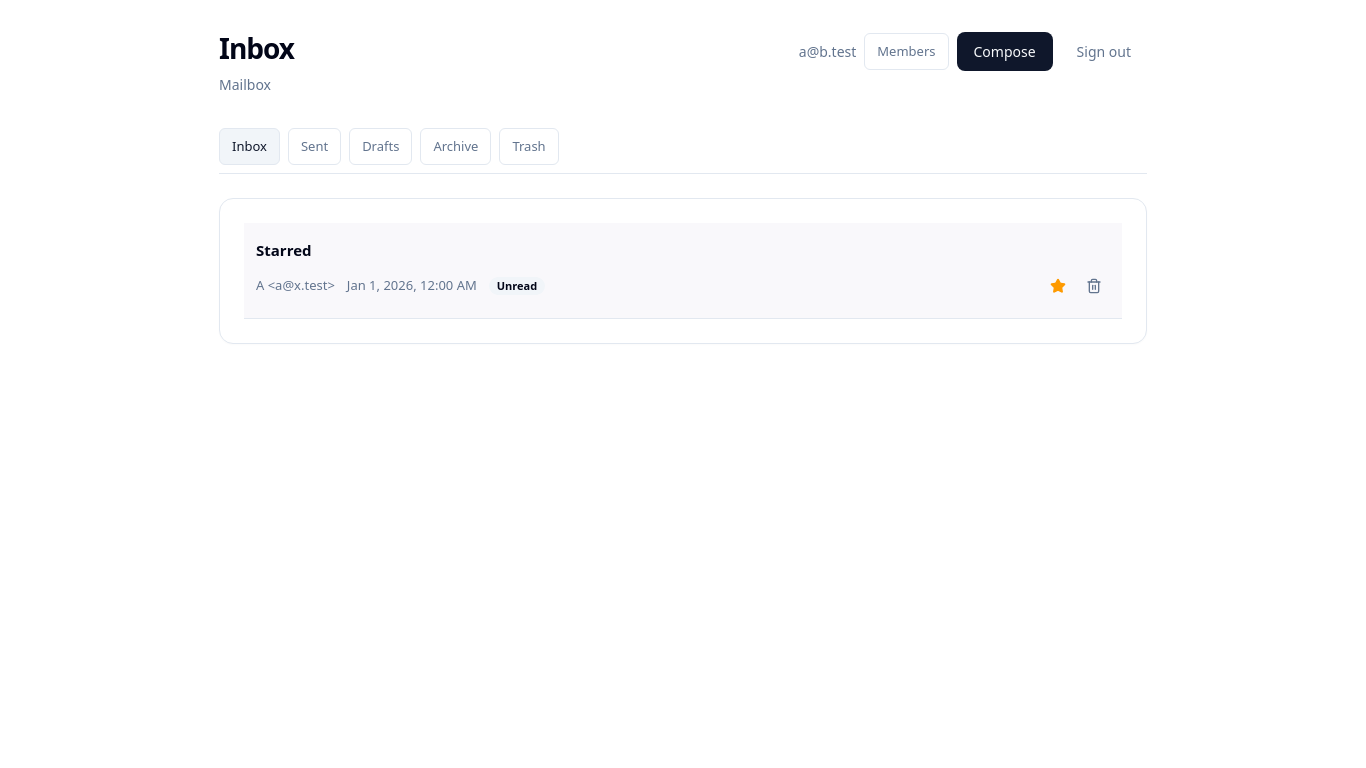
Scenario: InboxListPage — row actions (CAP-043 Slice 3) › H12: the row stays markup-valid with the delete dialog open — no <div> inside a <span> or <p>
Click the button with test id "inbox-delete-button". click: (1094, 286)
box: [1078,270,1110,302]
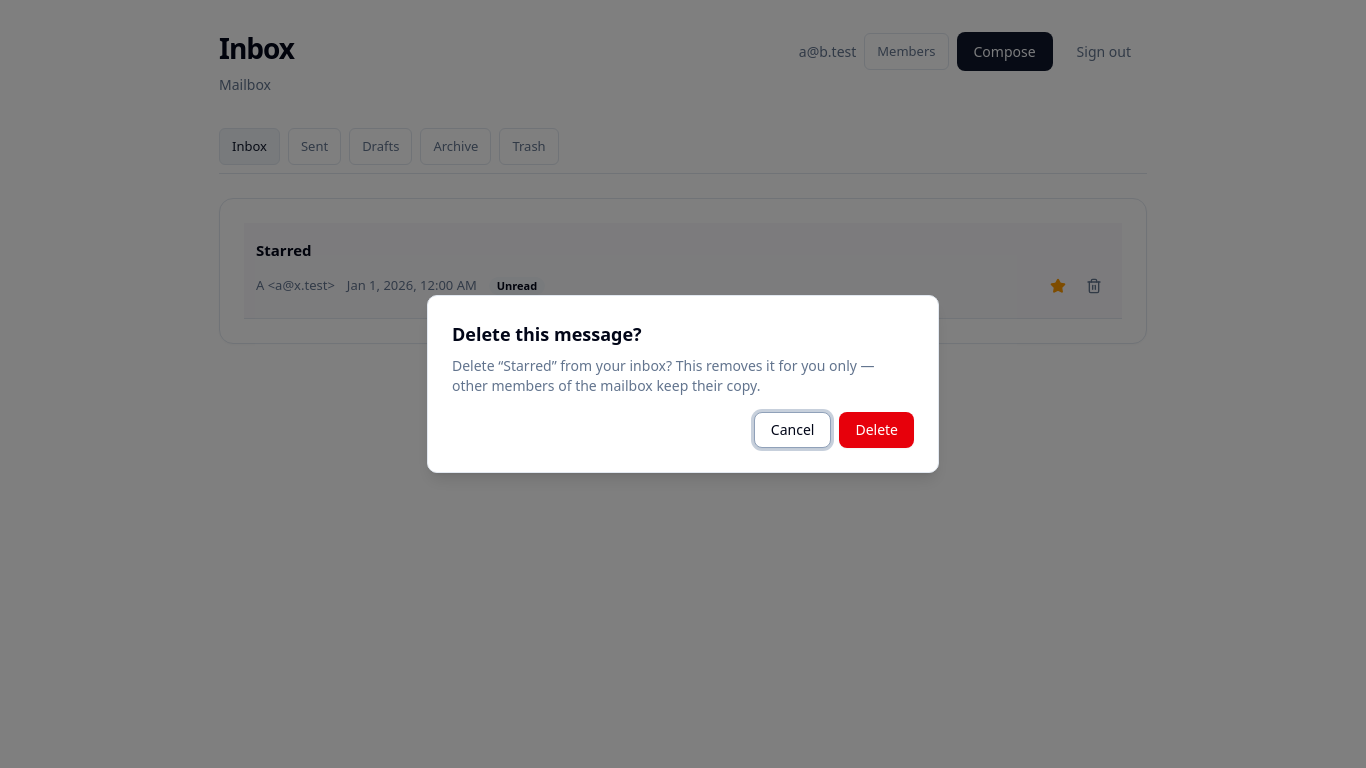
Now the dialog with test id "alert-dialog" is shown, box [427,295,939,473]
